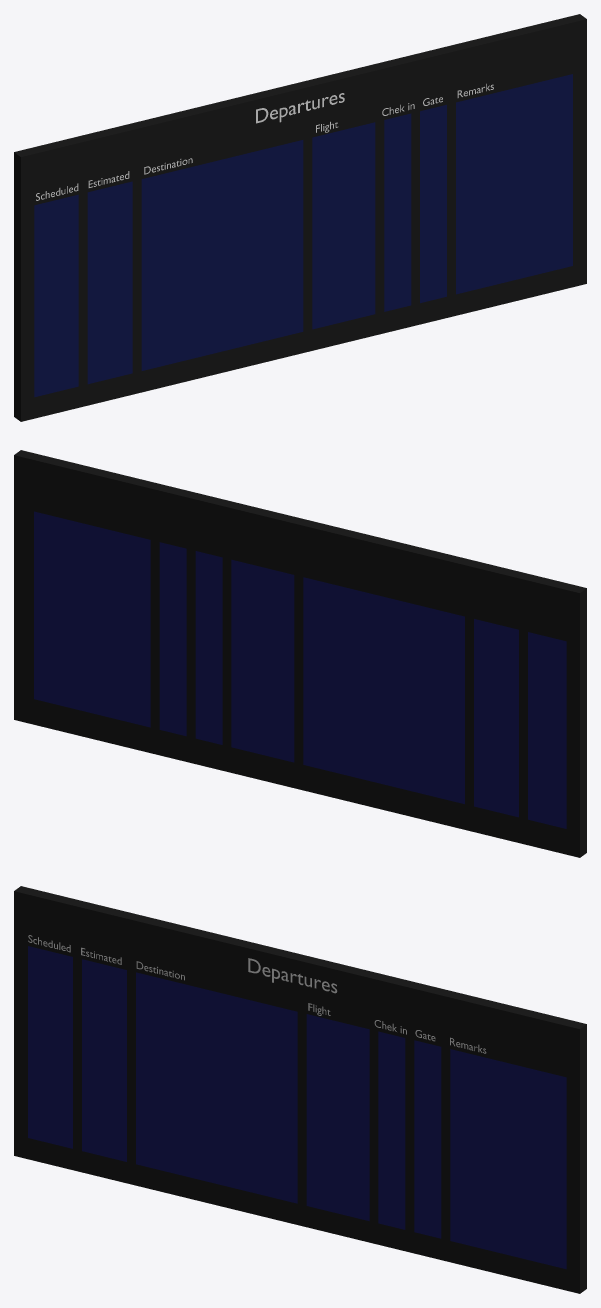
Rendered from flight_info_display.glb.
3 renders of one model, top to bottom at view 1: azimuth 30°, elevation 25°; view 2: azimuth 150°, elevation 25°; view 3: azimuth 330°, elevation 25°, orthographic.
Parts seen in each view (by area): view 1: Body, Line7, Line1, Line5, Line6, Line8, Line2, Line3, Line4, Line0, Line9, Text; view 2: Body, Line7, Line4, Line5, Line6, Line9, Line2, Line1, Line3, Line8, Line0; view 3: Body, Line7, Line1, Line5, Line6, Line8, Line2, Line3, Line4, Line0, Line9, Text.
Part boxes in pixels (bbox=[...]): Body: bbox=[14, 14, 586, 421]; Line7: bbox=[34, 209, 572, 359]; Line1: bbox=[34, 93, 572, 243]; Line5: bbox=[34, 170, 572, 320]; Line6: bbox=[34, 189, 572, 340]; Line8: bbox=[34, 228, 572, 379]; Line2: bbox=[34, 112, 572, 262]; Line3: bbox=[34, 131, 572, 282]; Line4: bbox=[34, 151, 572, 301]; Line0: bbox=[34, 74, 572, 223]; Line9: bbox=[34, 248, 572, 397]; Text: bbox=[256, 93, 344, 123]; Body: bbox=[14, 450, 586, 857]; Line7: bbox=[34, 641, 566, 790]; Line4: bbox=[34, 583, 566, 731]; Line5: bbox=[34, 602, 566, 751]; Line6: bbox=[34, 621, 566, 770]; Line9: bbox=[34, 680, 566, 828]; Line2: bbox=[34, 544, 566, 693]; Line1: bbox=[34, 524, 566, 673]; Line3: bbox=[34, 563, 566, 712]; Line8: bbox=[34, 660, 566, 809]; Line0: bbox=[34, 511, 566, 654]; Body: bbox=[14, 886, 586, 1293]; Line7: bbox=[28, 1081, 566, 1231]; Line1: bbox=[28, 965, 566, 1115]; Line5: bbox=[28, 1042, 566, 1192]; Line6: bbox=[28, 1061, 566, 1212]; Line8: bbox=[28, 1100, 566, 1251]; Line2: bbox=[28, 984, 566, 1134]; Line3: bbox=[28, 1003, 566, 1154]; Line4: bbox=[28, 1023, 566, 1173]; Line0: bbox=[28, 946, 566, 1095]; Line9: bbox=[28, 1120, 566, 1269]; Text: bbox=[248, 958, 337, 993].
Size of the model in its own units: 5.67 by 2.54 by 0.1266.
